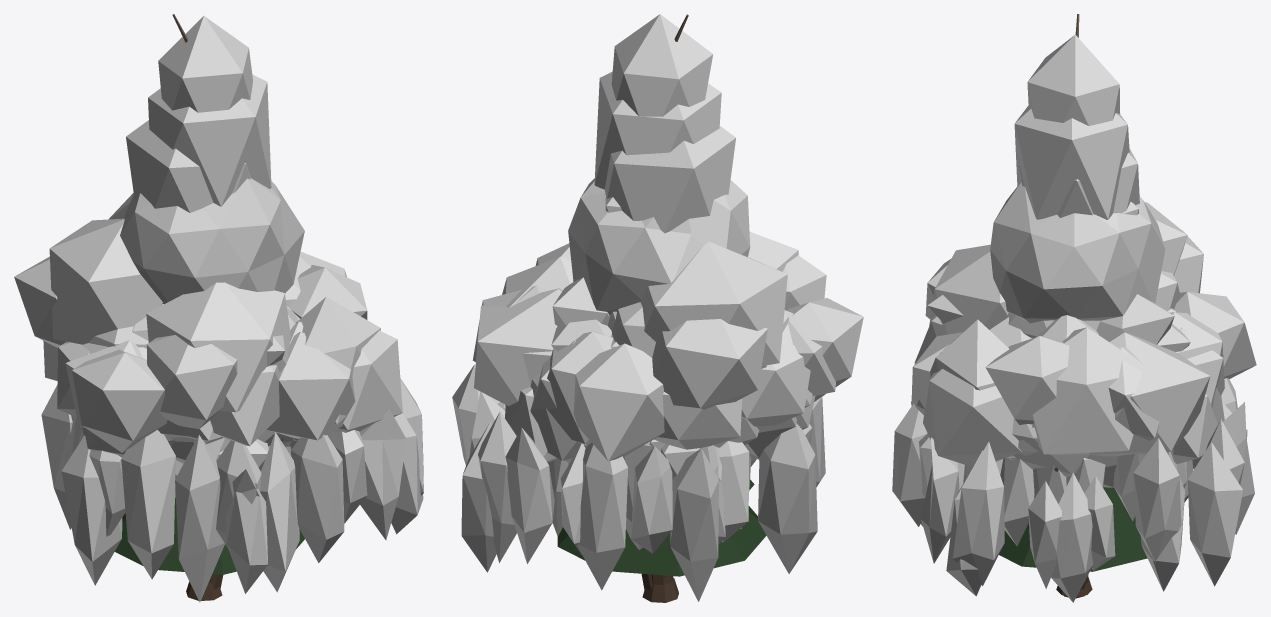
File: baeume.glb
3 views of the same model, side by side, from view 1: azimuth 30°, elevation 25°; view 2: azimuth 150°, elevation 25°; view 3: azimuth 270°, elevation 25° (orthographic). The views are drawn at different scales.
Visible parts, largest first — view 1: laub3_krone, weide_krone, pappel_krone, laub1_krone, tanne_krone, laub2_krone, linde_krone; view 2: laub3_krone, weide_krone, pappel_krone, laub1_krone, linde_krone, tanne_krone, laub2_krone, laub3_holz; view 3: laub3_krone, weide_krone, pappel_krone, linde_krone, tanne_krone, laub1_krone.
Part boxes in pixels (x1,y1,x2,y2): laub3_krone: [14, 178, 402, 452]; weide_krone: [41, 306, 423, 602]; pappel_krone: [126, 16, 271, 212]; laub1_krone: [43, 341, 298, 463]; tanne_krone: [114, 497, 304, 574]; laub2_krone: [74, 423, 291, 478]; linde_krone: [66, 270, 303, 442]; laub3_krone: [472, 178, 863, 461]; weide_krone: [452, 364, 825, 601]; pappel_krone: [594, 14, 735, 233]; laub1_krone: [505, 311, 815, 462]; linde_krone: [551, 277, 766, 368]; tanne_krone: [557, 479, 766, 576]; laub2_krone: [566, 439, 758, 480]; laub3_holz: [642, 574, 678, 602]; laub3_krone: [911, 182, 1256, 466]; weide_krone: [892, 338, 1254, 602]; pappel_krone: [1014, 34, 1139, 219]; linde_krone: [1036, 271, 1190, 351]; tanne_krone: [999, 487, 1147, 571]; laub1_krone: [1005, 312, 1224, 463].
Bounding box in the file's own units: 14.04 × 23.21 × 13.55.
